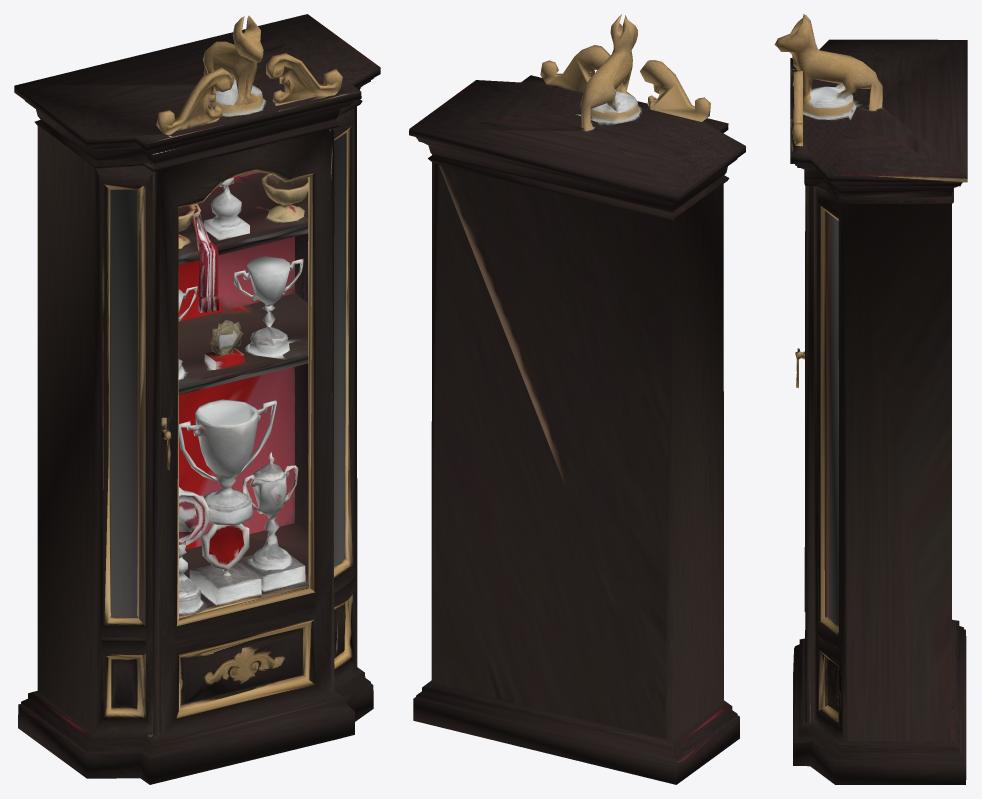
File: trophy_h2.glb
The picture shows the model from 3 angles, left to right: view 1: azimuth 30°, elevation 25°; view 2: azimuth 150°, elevation 25°; view 3: azimuth 270°, elevation 25°; orthographic projection. The views are drawn at different scales.
Parts seen in each view (by area): view 1: body; view 2: body; view 3: body.
Boxes of the visible parts, box(x1,y1,x2,y2) form: body: box(14, 14, 380, 784); body: box(409, 14, 745, 784); body: box(774, 14, 967, 784).
Size of the model in its own units: 0.9132 by 2.2 by 0.5474.
Materials: 1 (1 with a texture image).
